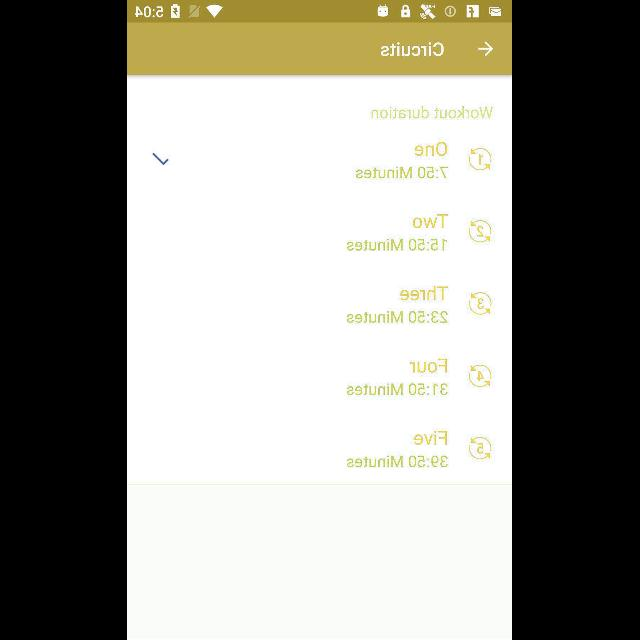icon: (153, 152, 170, 166), (478, 42, 494, 56)
image: (470, 364, 492, 388), (470, 292, 492, 316), (470, 436, 492, 459), (470, 220, 492, 242), (470, 148, 492, 170)
text: (372, 106, 494, 120), (348, 382, 448, 396), (348, 455, 448, 467), (348, 311, 448, 323), (348, 239, 448, 251), (357, 166, 449, 178), (382, 43, 444, 57), (401, 286, 449, 300), (410, 359, 448, 373), (413, 215, 449, 229), (414, 431, 448, 445), (414, 142, 448, 156)
toolbar: (128, 24, 512, 74)
uppertaskbar: (128, 1, 512, 23)
